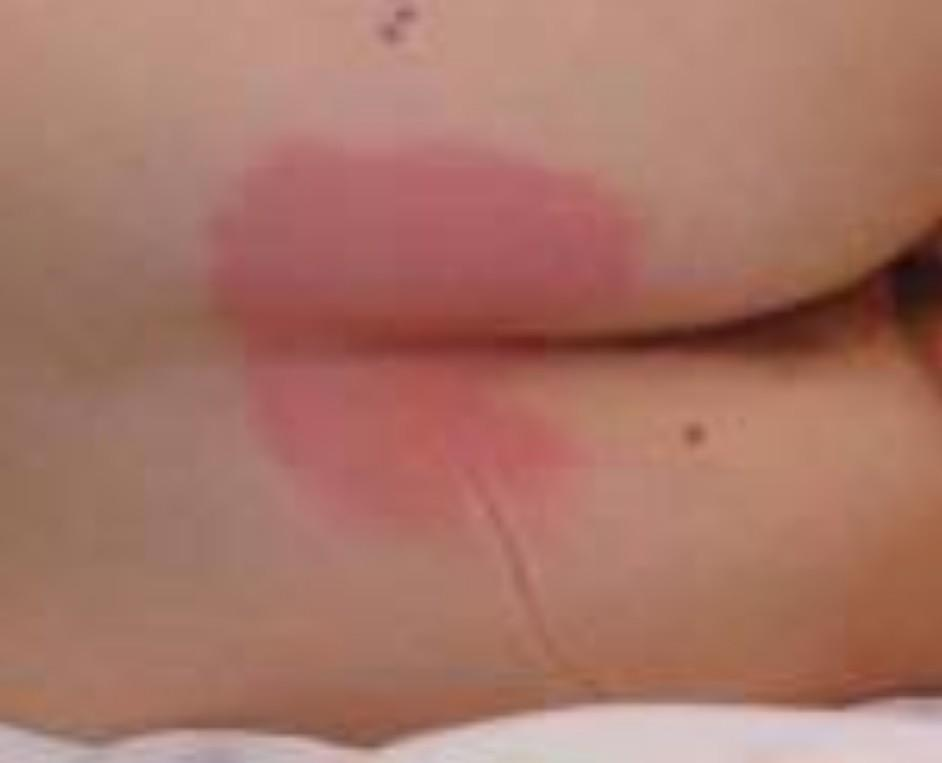Stage1: (186, 104, 704, 590)
